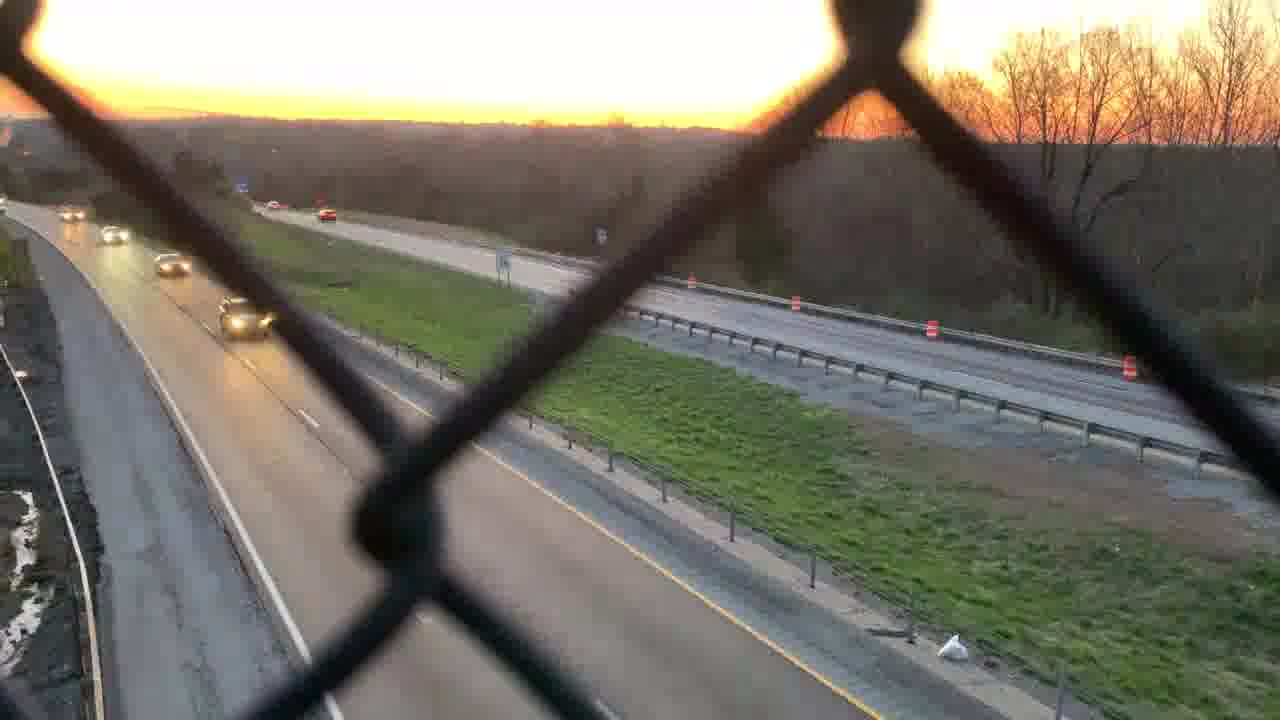largeCar: (214, 295, 276, 343), (313, 205, 337, 223)
smallCar: (152, 250, 193, 279)
vehicle: (96, 223, 128, 244), (53, 207, 89, 223), (262, 198, 279, 208)
